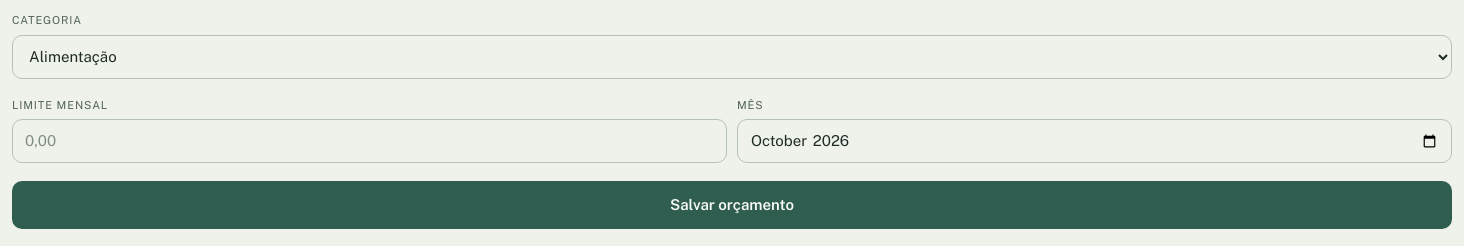
BudgetForm › limpa o formulário após criar
Step 1. Select "Moradia" in the dropdown labelled "Categoria" → (732, 56), box x1=12 y1=34 x2=1452 y2=78
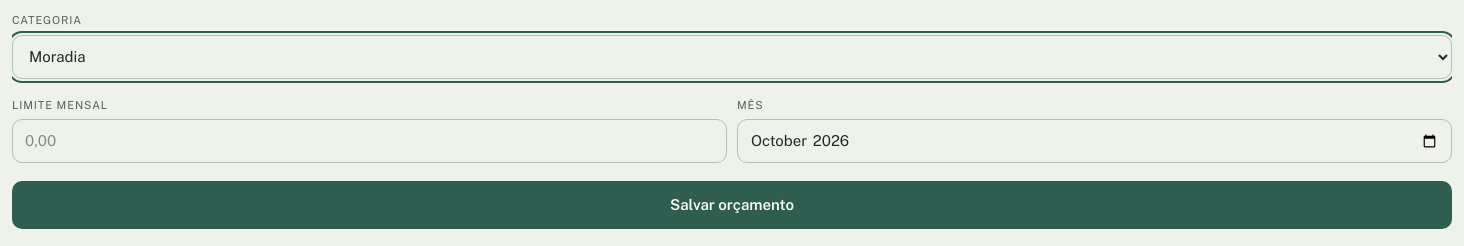
Step 2. Type "900" into the number field labelled "Limite mensal" → (370, 141), box x1=12 y1=119 x2=727 y2=163
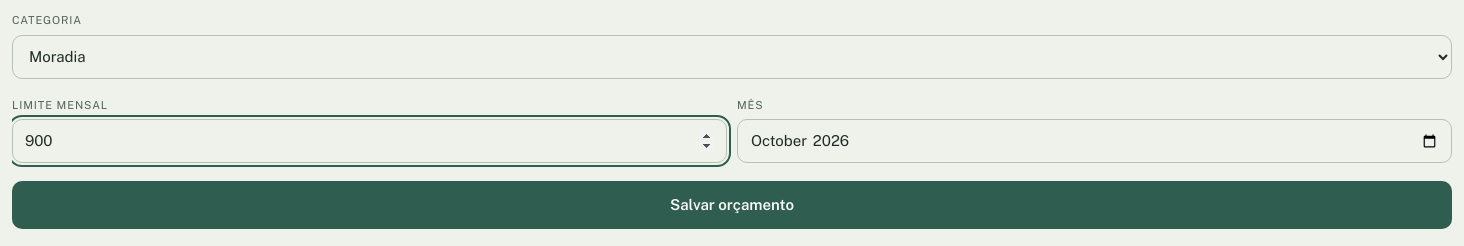
Step 3. Click the button "Salvar orçamento" → (732, 205), box x1=12 y1=181 x2=1452 y2=229
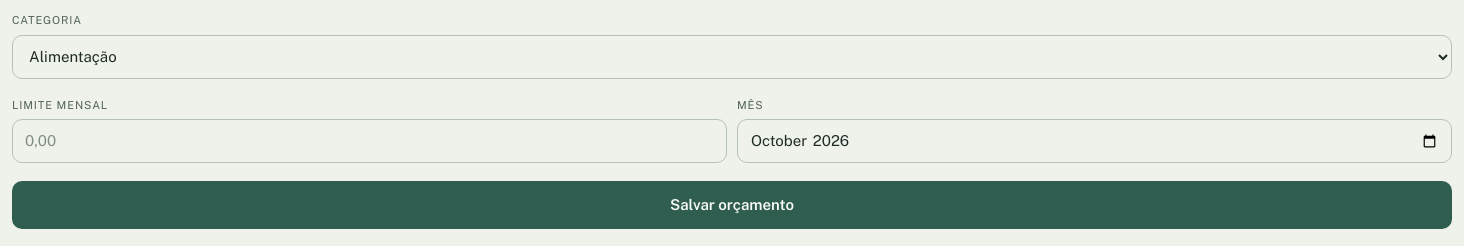
Now the number field labelled "Limite mensal" is not empty, box x1=12 y1=119 x2=727 y2=163
